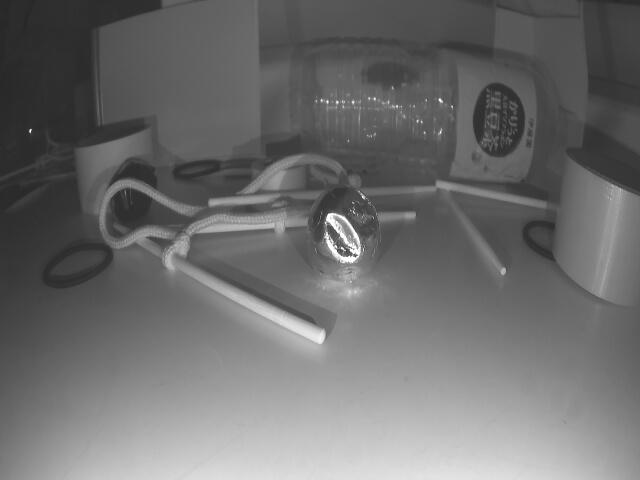Dead: (111, 163, 156, 216)
Live: (305, 184, 380, 280)
